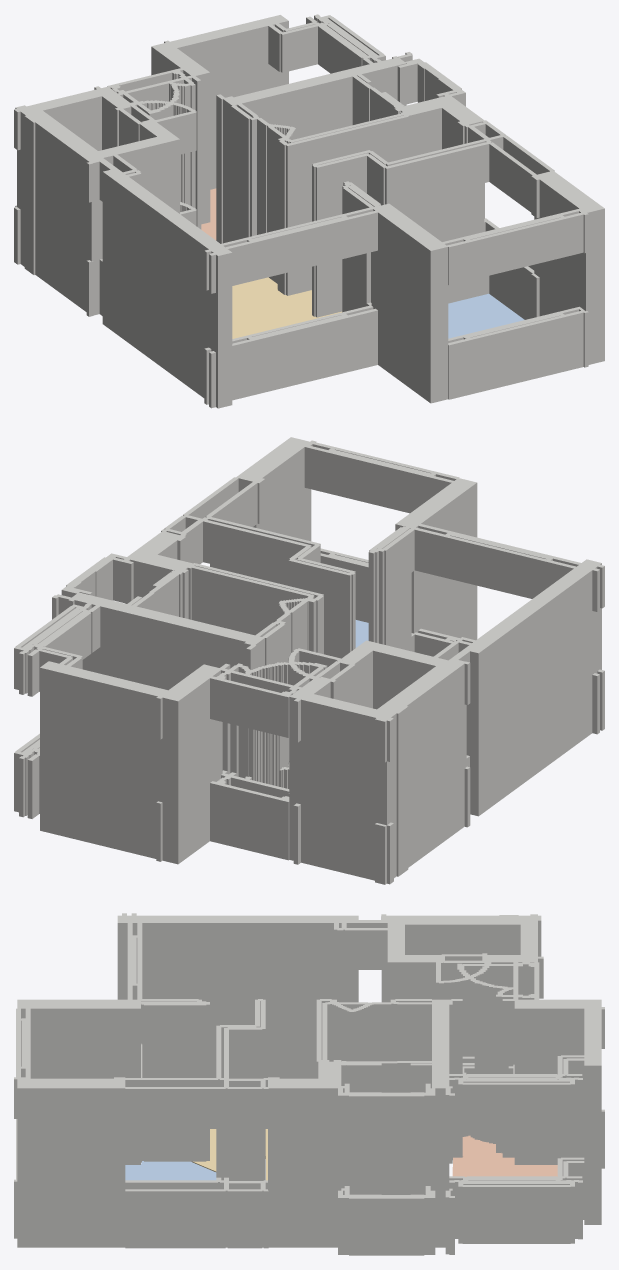
3 renders of one model, top to bottom at view 1: azimuth 30°, elevation 25°; view 2: azimuth 150°, elevation 25°; view 3: azimuth 270°, elevation 25°, orthographic. The views are drawn at different scales.
Visible parts, largest first — view 1: walls, room:living:5, room:bedroom:6; view 2: walls; view 3: walls, room:kitchen:0, room:bedroom:6, room:living:5.
Boxes of the visible parts, x1,y1,x2,y2 form: walls: (14, 14, 604, 408); room:living:5: (232, 277, 341, 338); room:bedroom:6: (448, 293, 524, 338); walls: (14, 437, 604, 884); walls: (14, 913, 604, 1255); room:kitchen:0: (452, 1135, 557, 1176); room:bedroom:6: (125, 1161, 216, 1180); room:living:5: (192, 1129, 267, 1180).
Bounding box in the file's own units: 6.9 × 2.8 × 9.42.
